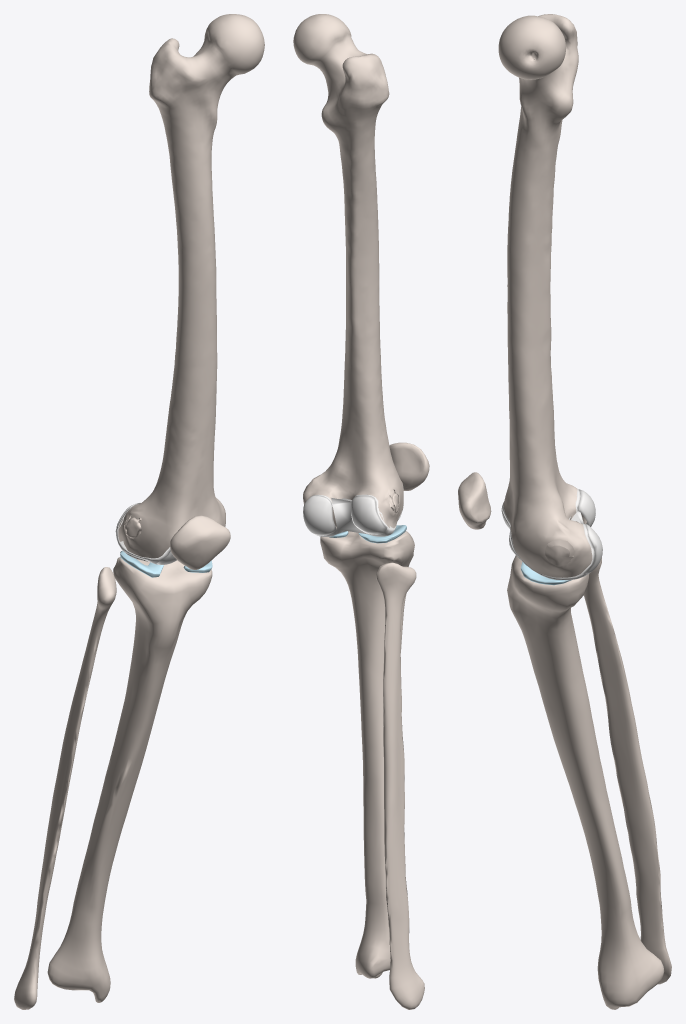
File: vh_m_knee_r-80.glb
The picture shows the model from 3 angles, left to right: view 1: azimuth 30°, elevation 25°; view 2: azimuth 150°, elevation 25°; view 3: azimuth 270°, elevation 25°; orthographic projection. The views are drawn at different scales.
Visible parts, largest first — view 1: VH_M_femur_R, VH_M_tibia_R, VH_M_fibula_R, VH_M_patella_R, VH_M_meniscus_R; view 2: VH_M_femur_R, VH_M_tibia_R, VH_M_fibula_R, VH_M_patella_R, VH_M_medial_condyle_of_right_femur_inf, VH_M_articular_cartilage_of_knee_R, VH_M_lateral_condyle_of_femur_inf_R, VH_M_meniscus_R; view 3: VH_M_femur_R, VH_M_tibia_R, VH_M_fibula_R, VH_M_patella_R, VH_M_articular_cartilage_of_knee_R.
Part boxes in pixels (x1,y1,x2,y2): VH_M_femur_R: (118,14,264,558); VH_M_tibia_R: (47,557,212,1002); VH_M_fibula_R: (14,567,116,1009); VH_M_patella_R: (170,515,230,569); VH_M_meniscus_R: (120,550,212,577); VH_M_femur_R: (293,14,403,528); VH_M_tibia_R: (320,531,414,978); VH_M_fibula_R: (376,562,424,1009); VH_M_patella_R: (389,442,429,490); VH_M_medial_condyle_of_right_femur_inf: (303,495,335,535); VH_M_articular_cartilage_of_knee_R: (315,484,403,536); VH_M_lateral_condyle_of_femur_inf_R: (351,495,386,534); VH_M_meniscus_R: (329,525,406,543); VH_M_femur_R: (498,14,592,577); VH_M_tibia_R: (507,555,664,1009); VH_M_fibula_R: (583,557,671,984); VH_M_patella_R: (458,472,491,529); VH_M_articular_cartilage_of_knee_R: (502,489,594,580).
Size of the model in its own units: 0.1734 by 0.8875 by 0.1646.
